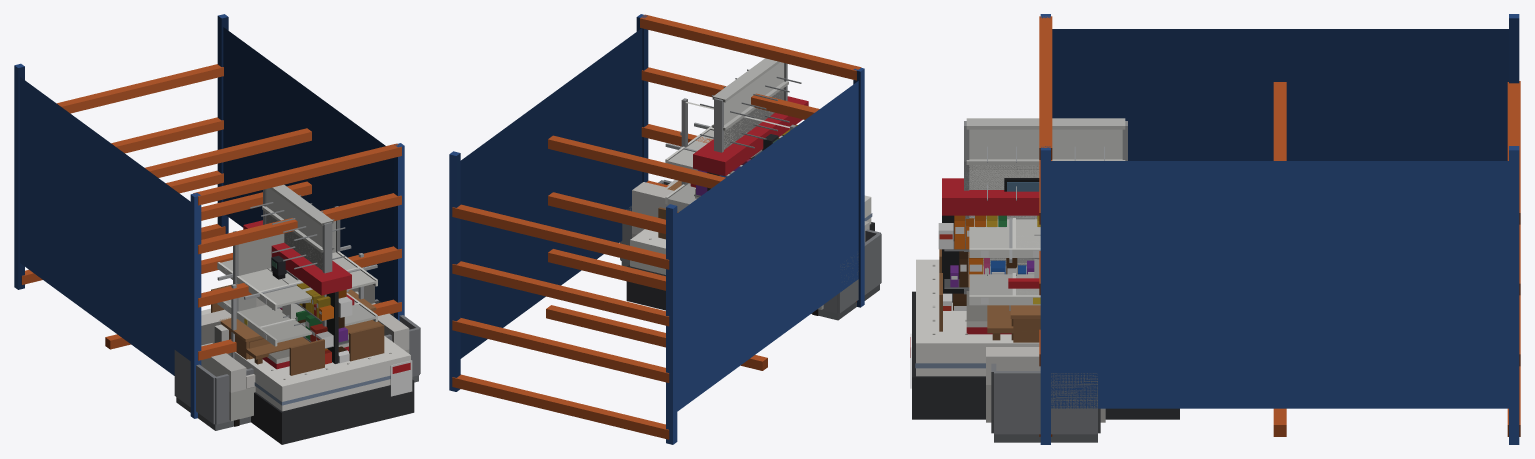
File: pardons_kit.glb
The picture shows the model from 3 angles, left to right: view 1: azimuth 30°, elevation 25°; view 2: azimuth 150°, elevation 25°; view 3: azimuth 270°, elevation 25°; orthographic projection. The views are drawn at different scales.
Parts seen in each view (by area): view 1: pk_rack, pk_matt, pk_candy, pk_gond, pk_end, pk_sofa, pk_rugbin, pk_table, pk_gondp, pk_dress, pk_rline, pk_low; view 2: pk_rack, pk_gondp, pk_candy, pk_gond, pk_rugbin, pk_matt, pk_sofa, pk_end; view 3: pk_rack, pk_matt, pk_gondp, pk_candy, pk_rugbin, pk_gond, pk_sofa, pk_dress, pk_table, pk_end, pk_low.
Part boxes in pixels (bbox=[...]): pk_rack: bbox=[14, 14, 404, 418]; pk_matt: bbox=[201, 308, 414, 444]; pk_candy: bbox=[243, 220, 352, 364]; pk_gond: bbox=[217, 206, 377, 346]; pk_end: bbox=[233, 206, 359, 328]; pk_sofa: bbox=[201, 284, 409, 426]; pk_rugbin: bbox=[174, 299, 420, 430]; pk_table: bbox=[211, 285, 384, 375]; pk_gondp: bbox=[250, 184, 345, 325]; pk_dress: bbox=[219, 289, 376, 359]; pk_rline: bbox=[217, 245, 377, 358]; pk_low: bbox=[262, 334, 348, 369]; pk_rack: bbox=[449, 14, 864, 444]; pk_gondp: bbox=[700, 58, 801, 175]; pk_candy: bbox=[693, 96, 808, 197]; pk_gond: bbox=[665, 81, 788, 205]; pk_rugbin: bbox=[620, 180, 881, 320]; pk_matt: bbox=[626, 195, 874, 310]; pk_sofa: bbox=[632, 180, 869, 315]; pk_end: bbox=[681, 98, 796, 185]; pk_rack: bbox=[1039, 14, 1520, 444]; pk_matt: bbox=[910, 259, 1179, 419]; pk_gondp: bbox=[964, 118, 1127, 294]; pk_candy: bbox=[938, 178, 1040, 310]; pk_rugbin: bbox=[991, 363, 1100, 442]; pk_gond: bbox=[964, 159, 1125, 305]; pk_sofa: bbox=[986, 347, 1105, 422]; pk_dress: bbox=[1010, 305, 1040, 342]; pk_table: bbox=[939, 249, 1037, 340]; pk_end: bbox=[1012, 218, 1040, 295]; pk_low: bbox=[966, 291, 1011, 334].
Size of the model in its own units: 2.48 by 2.5 by 4.69.
